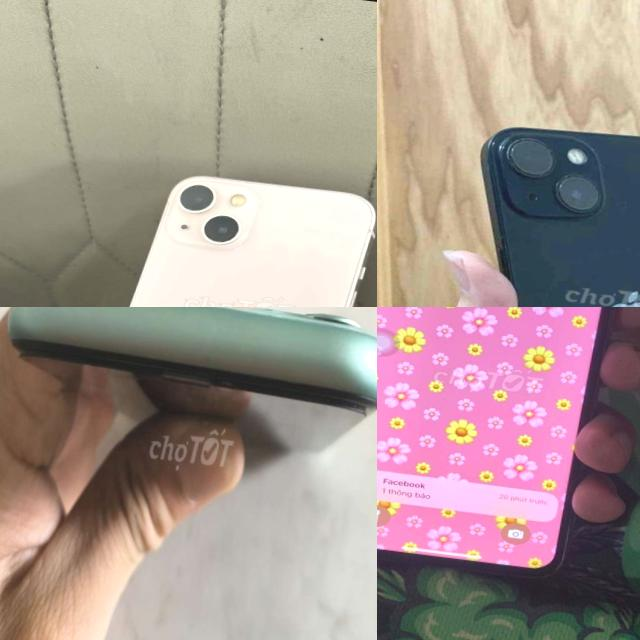gen_11: (0, 307, 377, 448)
gen_12_13: (59, 151, 377, 307), (429, 110, 640, 307)
gen_x_xs: (377, 307, 624, 596)
